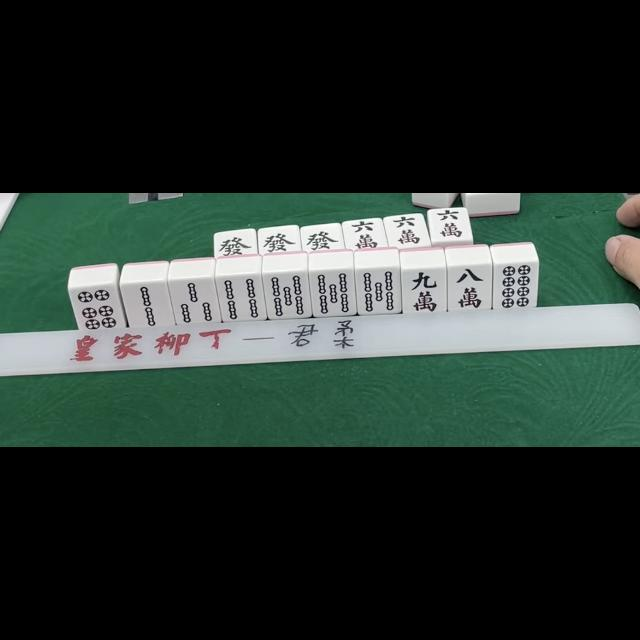b2: (126, 280, 170, 330)
b3: (173, 278, 217, 326)
b4: (220, 275, 262, 321)
b5: (310, 269, 354, 315), (356, 268, 400, 314), (267, 272, 309, 318)
c6: (388, 213, 426, 247), (345, 219, 383, 251), (432, 208, 468, 240)
c8: (448, 264, 492, 310)
c9: (404, 268, 444, 314)
d6: (70, 285, 121, 331)
d8: (494, 262, 538, 310)
dg: (214, 230, 256, 258), (303, 224, 342, 252), (260, 226, 298, 254)
